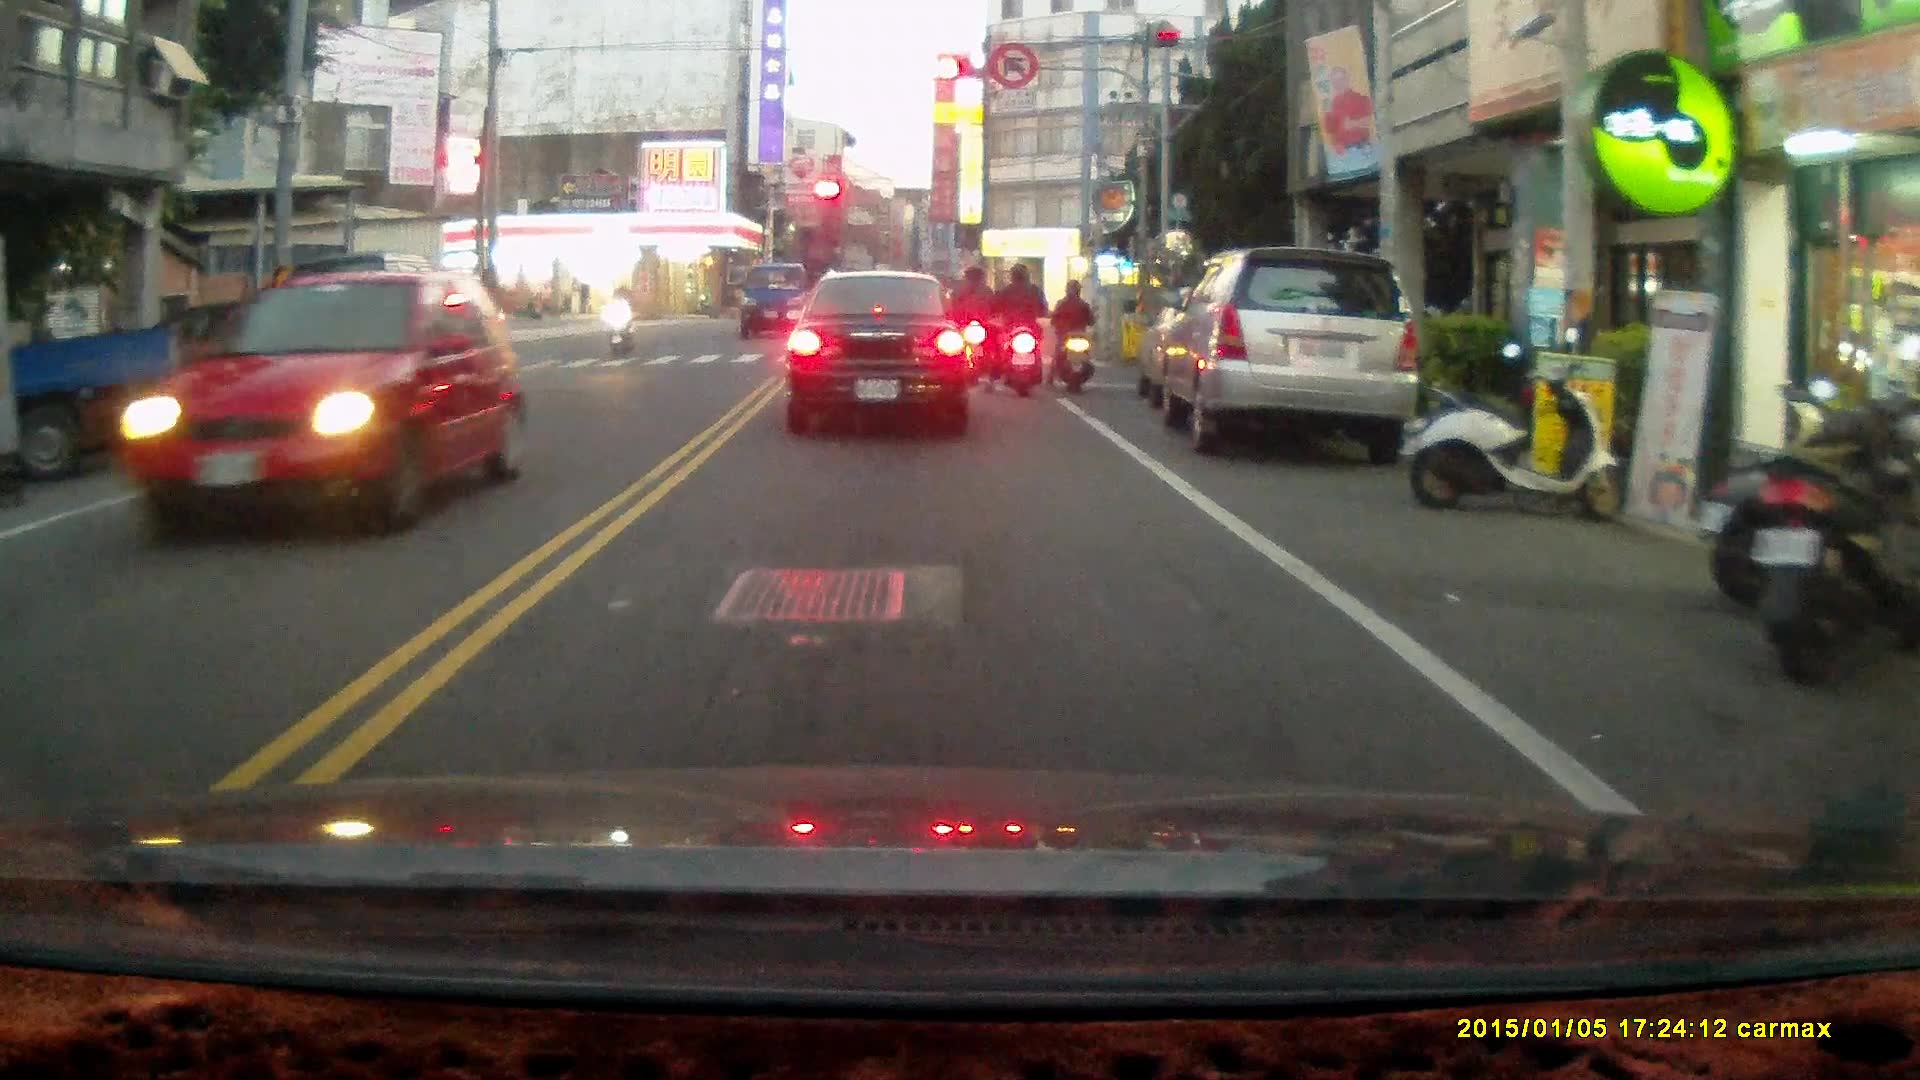rider: (984, 260, 1048, 400), (1044, 275, 1097, 394), (945, 264, 991, 383), (606, 280, 635, 360)
vehicle: (107, 268, 513, 542), (1149, 245, 1423, 457), (787, 268, 976, 435)
